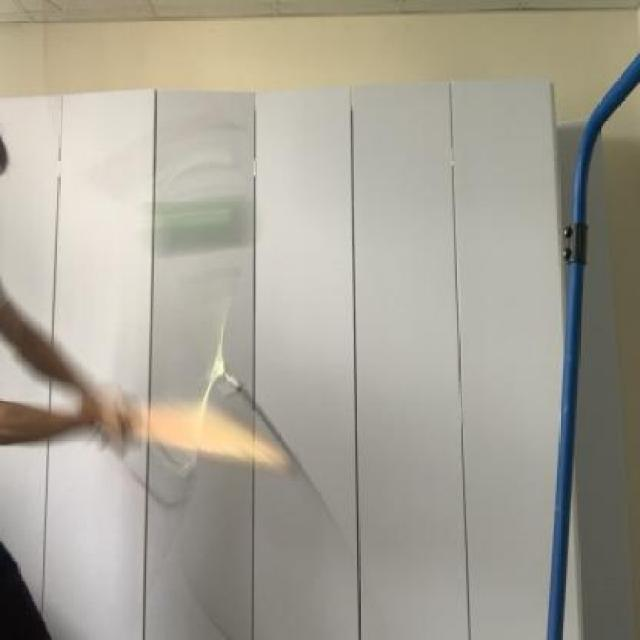baseball: (126, 192, 260, 270)
